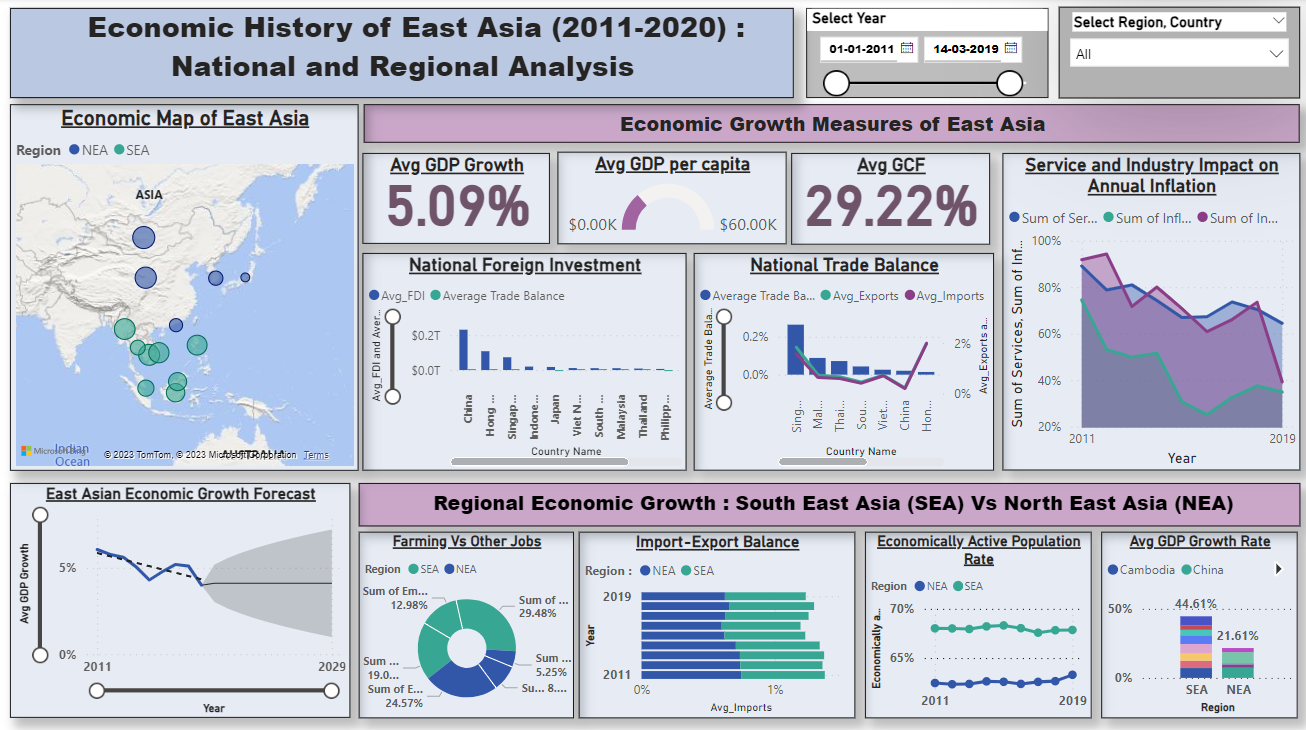

This screenshot's page, from the dashboard's own definition file:
{"tool":"powerbi","page":{"name":"Page 1","canvas":[1280,720],"ordinal":0},"visuals":[{"type":"textbox","box":[9.8,9.8,766.5,88],"z":0,"group":"g2"},{"type":"donutChart","title":"Farming Vs Other Jobs","fields":{"Y":["Sum(Model.Emp_agri)","Sum(Model.Emp_ind)","Sum(Model.Emp_ser)"],"Category":["Model.Region"]},"box":[350.8,522,210.3,182.1],"z":0},{"type":"card","title":"Avg GDP Growth","fields":{"Values":["Model.Avg_GDP_grw"]},"box":[354.8,151.8,183.6,89],"z":1000,"group":"g3"},{"type":"barChart","title":"Import-Export Balance","fields":{"Category":["Model.Year.Variation.Date Hierarchy.Year"],"Y":["Model.Avg_Imports"],"Series":["Model.Region"]},"box":[566,522,270.2,182.1],"z":1000},{"type":"slicer","fields":{"Values":["Model.Region","Model.Country Name"]},"box":[1035.4,8.6,235.9,89.2],"z":2000,"group":"g2"},{"type":"areaChart","title":"Service and Industry Impact on Annual Inflation","fields":{"Category":["Model.Year"],"Y":["Sum(Model.Services)","Sum(Model.Inflation)","Sum(Model.Industry)"]},"box":[980.7,151.7,290.9,310.5],"z":2000,"group":"g3"},{"type":"lineChart","title":"Economically Active Population Rate","fields":{"Category":["Model.Year"],"Series":["Model.Region"],"Y":["Model.Avg Economically active population"]},"box":[845.9,522,221.3,182.1],"z":2000},{"type":"slicer","title":"Select Year","fields":{"Values":["Model.Year"]},"box":[788.5,9.8,237.1,88],"z":3000,"group":"g2"},{"type":"group","id":"g1","title":"Group 1","box":[9.8,103.9,1261.8,600.3],"z":3000},{"type":"gauge","title":"Avg GDP per capita","fields":{"Y":["Model.Avg_GDP_pc"]},"box":[545.5,150.5,223.7,90.5],"z":3000,"group":"g3"},{"type":"map","title":"Economic Map of East Asia","fields":{"Category":["Model.Country Name","Model.Year.Variation.Date Hierarchy.Year"],"Size":["Model.Avg_GDP_grw"],"Series":["Model.Region"]},"box":[9.8,103.9,341.1,358.2],"z":4000,"group":"g3"},{"type":"textbox","box":[350.8,474.3,920.5,42.8],"z":4000},{"type":"group","id":"g2","title":"Group 3","box":[9.8,8.6,1261.5,89.2],"z":5000},{"type":"textbox","box":[355.7,103.9,915.6,37.9],"z":6000,"group":"g1"},{"type":"lineChart","title":"East Asian Economic Growth Forecast","fields":{"Y":["Model.Avg_GDP_grw"],"Category":["Model.Year.Variation.Date Hierarchy.Year"]},"box":[9.8,474.3,332.5,229.8],"z":6000},{"type":"lineStackedColumnComboChart","title":"National Trade Balance","fields":{"Y":["Model.Average Trade Balance"],"Category":["Model.Country Name"],"Y2":["Model.Avg_Exports","Model.Avg_Imports"]},"box":[678.7,249.5,293.4,212.7],"z":7000,"group":"g3"},{"type":"card","title":"Avg GCF","fields":{"Values":["Model.Avg_GCF"]},"box":[774.1,151.7,194.4,89.2],"z":8000,"group":"g3"},{"type":"group","id":"g3","title":"Group 2","box":[9.8,103.9,1261.8,358.3],"z":8001,"group":"g1"},{"type":"lineClusteredColumnComboChart","title":"National Foreign Investment","fields":{"Category":["Model.Country Name"],"Y":["Model.Avg_FDI","Model.Average Trade Balance"]},"box":[354.5,249.4,316.6,212.7],"z":10000,"group":"g3"},{"type":"columnChart","title":"Avg GDP Growth Rate","fields":{"Category":["Model.Region"],"Y":["Model.Avg_GDP_grw"],"Series":["Model.Country Name"]},"box":[1077.2,522.1,191.9,182.1],"z":11000,"group":"g1"}]}

Visuals, with their boxes in screenshot pixels (x1, y1, x2, y2), scaled from the page's 1280x720 canvas onto the 1306x730 screenshot:
textbox: x1=10 y1=10 x2=792 y2=99
"Farming Vs Other Jobs" donutChart: x1=358 y1=529 x2=572 y2=714
"Avg GDP Growth" card: x1=362 y1=154 x2=549 y2=244
"Import-Export Balance" barChart: x1=577 y1=529 x2=853 y2=714
slicer - Model.Region x Model.Country Name: x1=1056 y1=9 x2=1297 y2=99
"Service and Industry Impact on Annual Inflation" areaChart: x1=1001 y1=154 x2=1297 y2=469
"Economically Active Population Rate" lineChart: x1=863 y1=529 x2=1089 y2=714
"Select Year" slicer: x1=805 y1=10 x2=1046 y2=99
"Group 1" group: x1=10 y1=105 x2=1297 y2=714
"Avg GDP per capita" gauge: x1=557 y1=153 x2=785 y2=244
"Economic Map of East Asia" map: x1=10 y1=105 x2=358 y2=469
textbox: x1=358 y1=481 x2=1297 y2=524
"Group 3" group: x1=10 y1=9 x2=1297 y2=99
textbox: x1=363 y1=105 x2=1297 y2=144
"East Asian Economic Growth Forecast" lineChart: x1=10 y1=481 x2=349 y2=714
"National Trade Balance" lineStackedColumnComboChart: x1=692 y1=253 x2=992 y2=469
"Avg GCF" card: x1=790 y1=154 x2=988 y2=244
"Group 2" group: x1=10 y1=105 x2=1297 y2=469
"National Foreign Investment" lineClusteredColumnComboChart: x1=362 y1=253 x2=685 y2=469
"Avg GDP Growth Rate" columnChart: x1=1099 y1=529 x2=1295 y2=714
